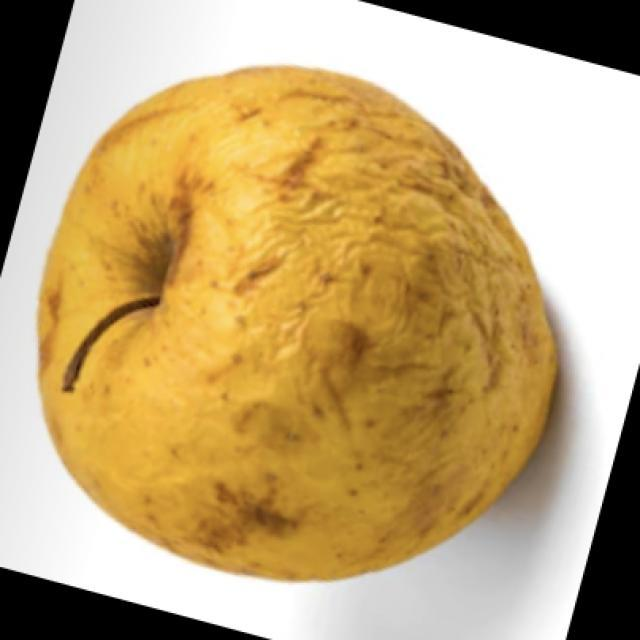Rotten: (69, 67, 558, 563)
